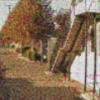stairs: (61, 16, 94, 52)
